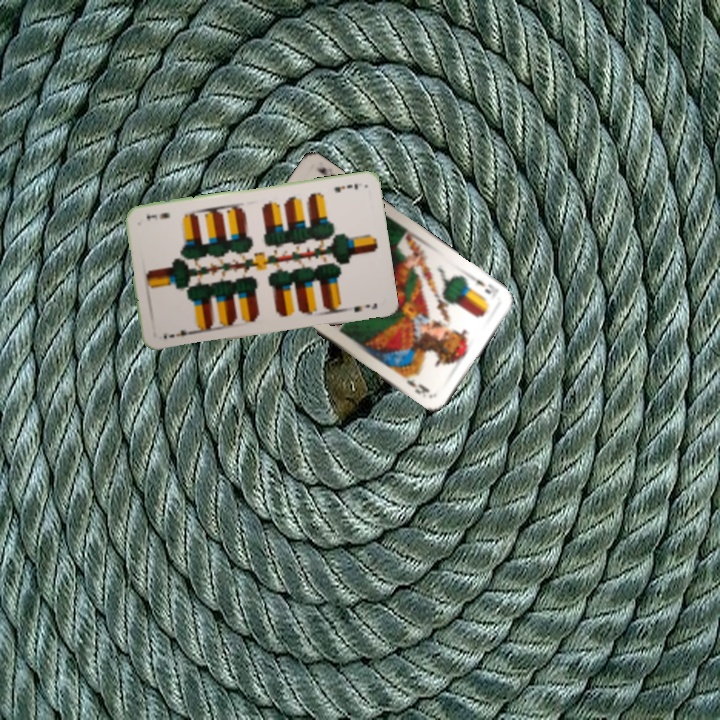E7: (159, 326, 196, 342), (331, 180, 361, 195)
EK: (469, 272, 502, 297)
